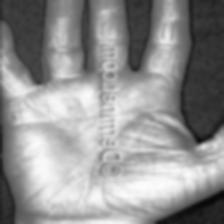Non-Cancerous Skin Condition: (125, 80, 192, 172)
